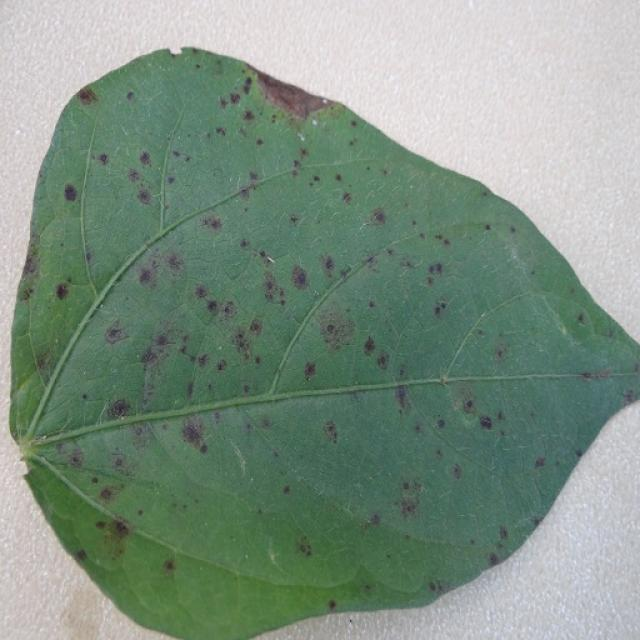Anthracnose: (395, 482, 421, 518), (181, 417, 207, 451), (18, 252, 39, 290), (262, 275, 286, 305), (130, 424, 153, 453), (104, 321, 129, 344), (234, 181, 261, 202), (106, 398, 131, 420), (199, 213, 224, 234), (290, 261, 309, 288), (365, 208, 387, 228), (395, 384, 411, 411), (137, 265, 156, 287), (35, 354, 52, 378), (165, 251, 184, 272), (65, 447, 84, 468), (77, 87, 98, 106), (322, 420, 338, 444), (140, 346, 159, 365), (136, 186, 153, 207), (320, 254, 336, 276), (433, 300, 449, 319), (55, 283, 70, 301), (63, 184, 78, 202), (297, 539, 312, 557), (221, 300, 236, 318), (303, 361, 317, 380), (193, 284, 209, 300), (362, 254, 378, 270), (249, 318, 263, 336), (363, 336, 376, 355), (428, 262, 444, 277), (622, 388, 637, 404), (99, 487, 114, 502), (114, 520, 129, 535), (258, 250, 273, 265), (494, 345, 508, 361), (399, 258, 416, 271), (155, 333, 170, 347), (242, 76, 253, 95), (479, 416, 493, 430), (139, 151, 152, 166), (377, 353, 388, 370), (163, 559, 175, 573), (197, 353, 209, 367), (75, 549, 87, 562), (453, 463, 462, 480), (97, 153, 109, 165), (243, 109, 255, 121), (229, 93, 241, 105), (187, 381, 195, 399), (339, 267, 351, 279), (370, 513, 381, 526), (488, 553, 499, 566), (499, 525, 508, 540), (342, 192, 353, 204), (534, 457, 546, 468), (261, 416, 272, 428), (434, 234, 447, 244), (85, 250, 94, 263), (215, 127, 226, 137), (436, 418, 446, 429), (249, 171, 259, 182), (216, 361, 226, 372), (239, 239, 250, 249), (326, 324, 336, 335), (577, 313, 586, 325), (581, 371, 594, 379), (465, 399, 474, 410), (95, 520, 106, 529), (328, 600, 337, 610), (300, 148, 309, 158), (220, 97, 228, 108), (607, 327, 615, 338), (292, 159, 301, 168), (290, 215, 299, 224), (574, 449, 583, 458), (126, 91, 134, 101), (335, 173, 343, 182), (282, 485, 290, 494), (311, 175, 320, 183), (167, 176, 175, 185), (172, 150, 181, 158), (429, 583, 437, 592), (497, 411, 504, 421), (414, 424, 421, 434), (256, 138, 264, 146), (402, 482, 410, 490), (368, 300, 376, 308), (381, 168, 389, 176), (243, 385, 251, 393), (534, 518, 541, 527), (350, 120, 357, 128), (510, 226, 517, 234), (91, 476, 99, 483), (484, 224, 491, 231), (137, 509, 144, 516), (636, 362, 640, 373), (81, 394, 88, 400), (481, 191, 488, 197), (195, 64, 201, 70), (470, 539, 475, 546)
Blackgram: (8, 48, 639, 639)
